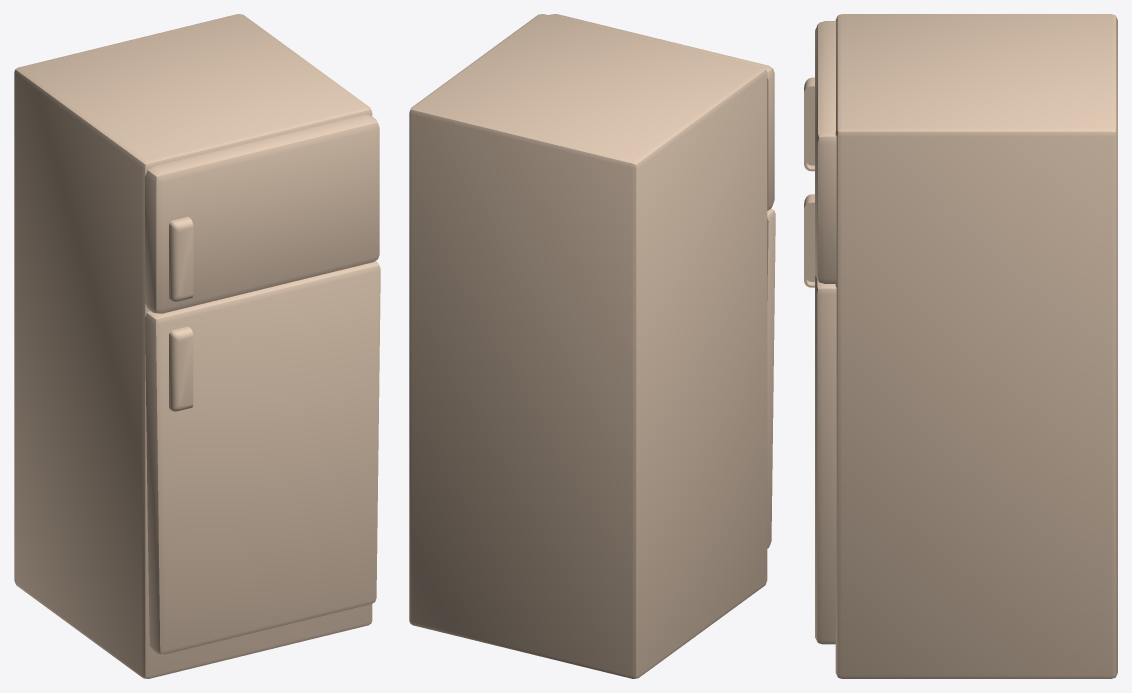
The picture shows the model from 3 angles, left to right: view 1: azimuth 30°, elevation 25°; view 2: azimuth 150°, elevation 25°; view 3: azimuth 270°, elevation 25°; orthographic projection. The views are drawn at different scales.
Parts seen in each view (by area): view 1: Fridge; view 2: Fridge; view 3: Fridge.
Part boxes in pixels (bbox=[...]): Fridge: bbox=[14, 14, 380, 678]; Fridge: bbox=[409, 14, 775, 678]; Fridge: bbox=[804, 14, 1117, 678].
Size of the model in its own units: 0.8698 by 1.87 by 0.967.
